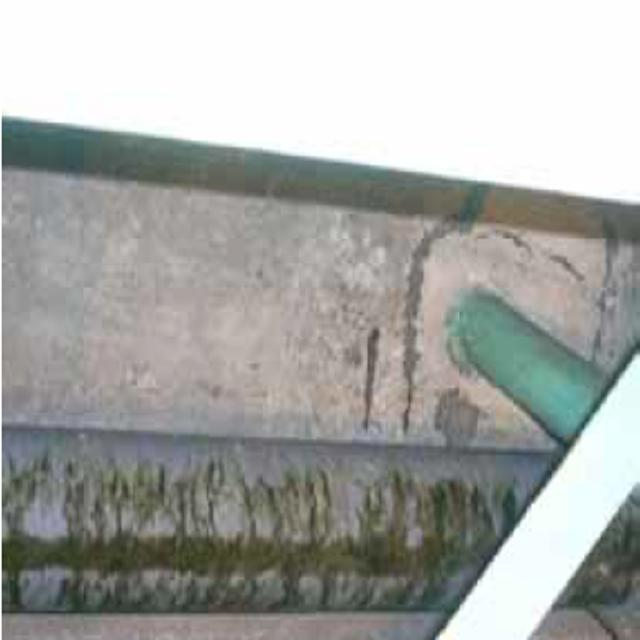spalling: (44, 440, 476, 603)
